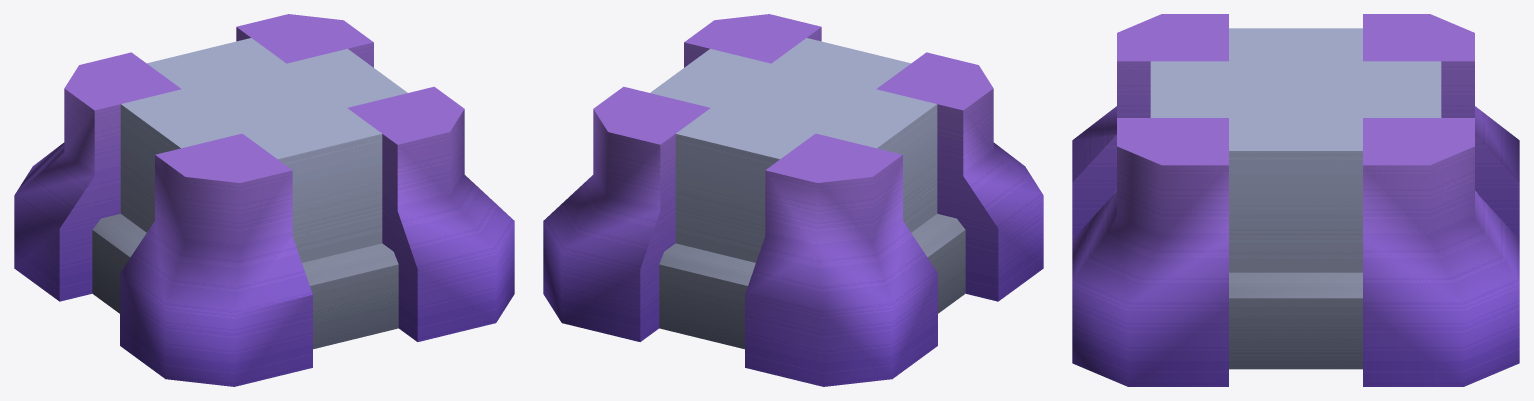
File: tower-square-bottom-b.glb
The picture shows the model from 3 angles, left to right: view 1: azimuth 30°, elevation 25°; view 2: azimuth 150°, elevation 25°; view 3: azimuth 270°, elevation 25°; orthographic projection. The views are drawn at different scales.
Parts seen in each view (by area): view 1: tower-square-bottom-b; view 2: tower-square-bottom-b; view 3: tower-square-bottom-b.
Part boxes in pixels (box(x1,y1,x2,y2)): tower-square-bottom-b: box(14, 14, 514, 386); tower-square-bottom-b: box(543, 14, 1043, 386); tower-square-bottom-b: box(1072, 14, 1519, 386).
Bounding box in the file's own units: 1 × 0.5 × 1.
1 material, 1 textured.
